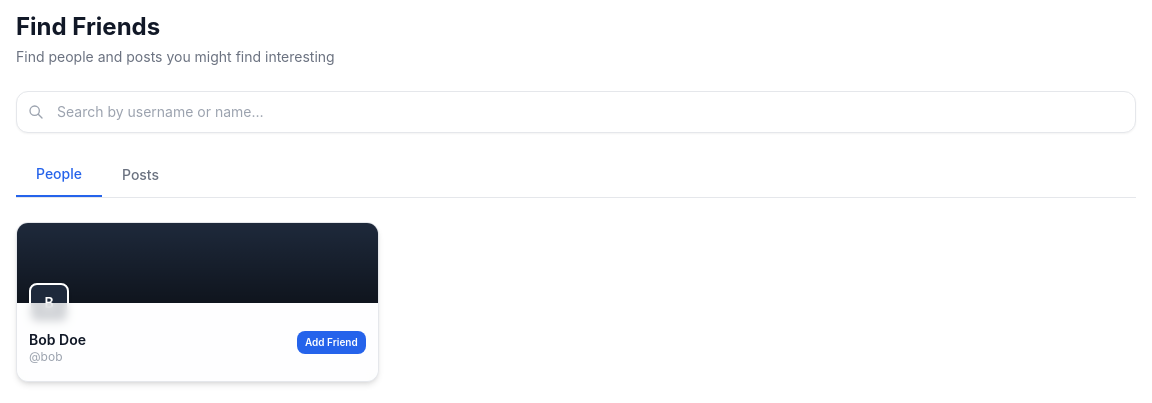
Test: Discovery friend requests › shows pending state when backend says a request was already sent
Click the button "Add Friend": {"x": 331, "y": 342} [297,331,366,354]
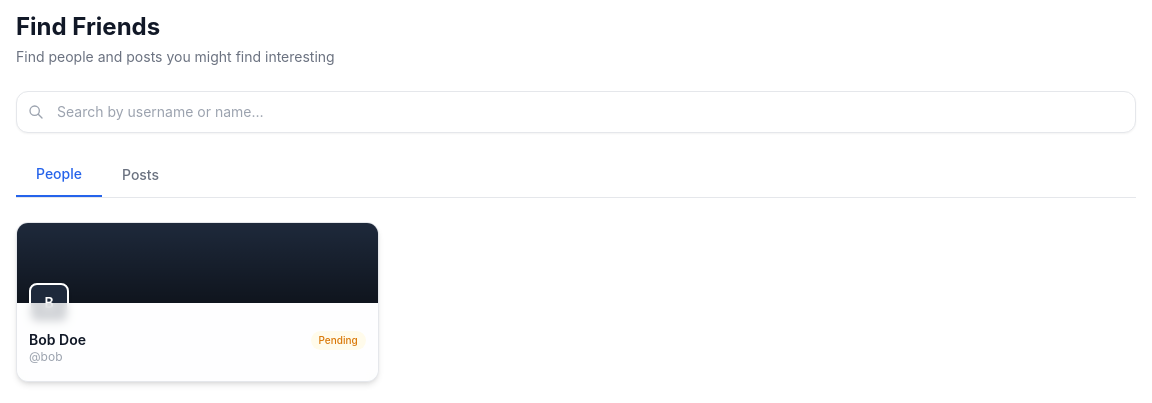
Expected: the text "Pending" is shown, [310,331,366,350]
